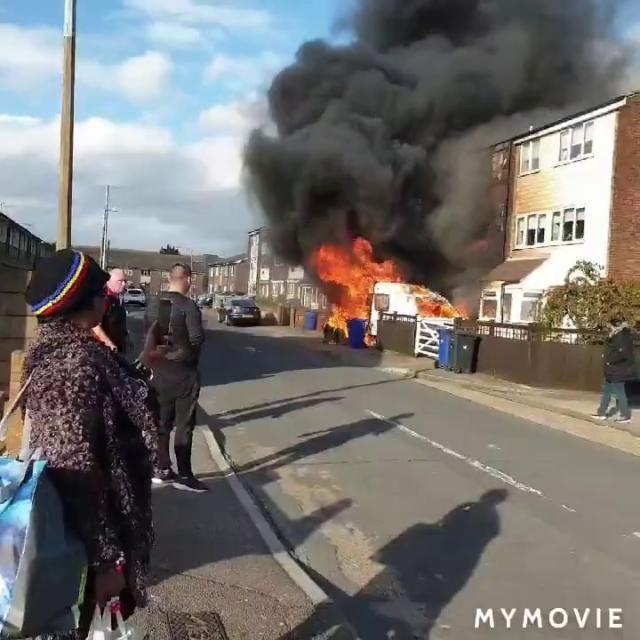Fire: (310, 240, 398, 328), (402, 280, 460, 323)
Smoke: (240, 0, 634, 258)
